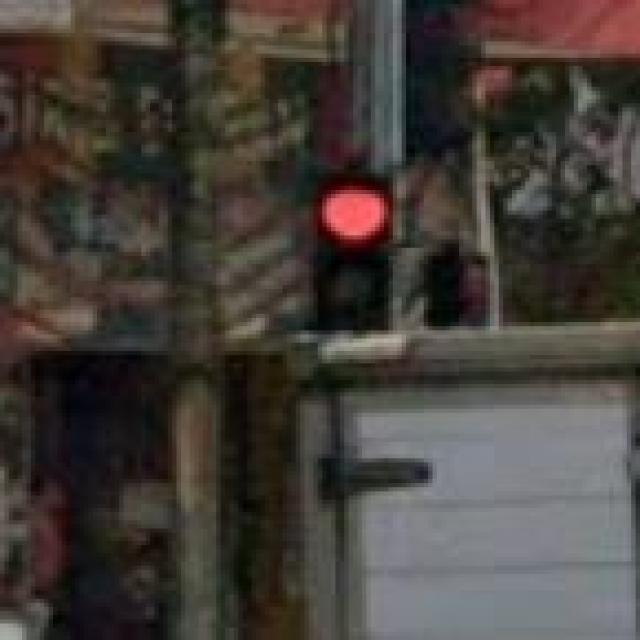red_light: (314, 174, 398, 331)
